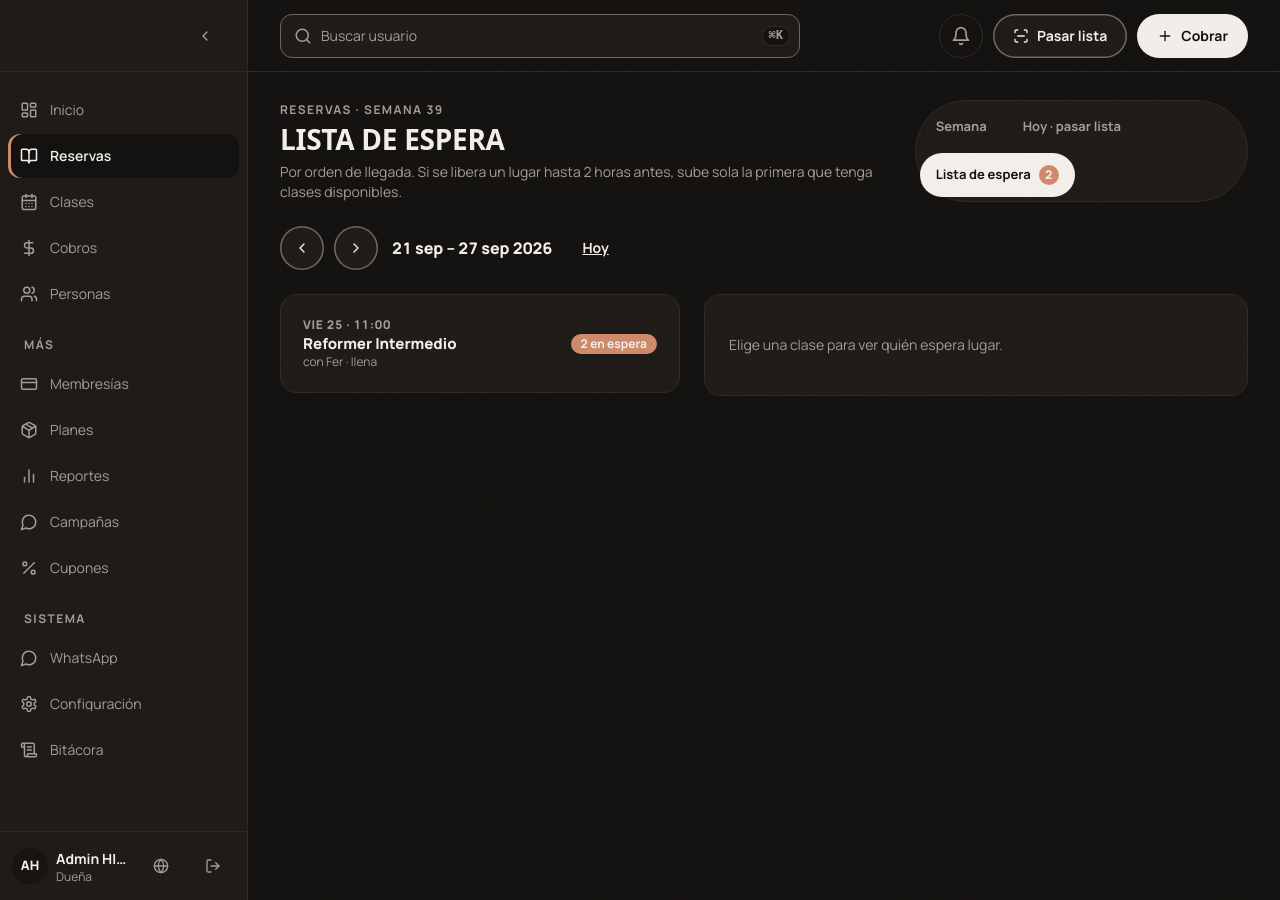
Test: Lista de espera › sólo lista las clases con gente esperando y muestra el orden
Click the button "Reformer Intermedio" at coordinates (323, 324), box [289,303,671,384]
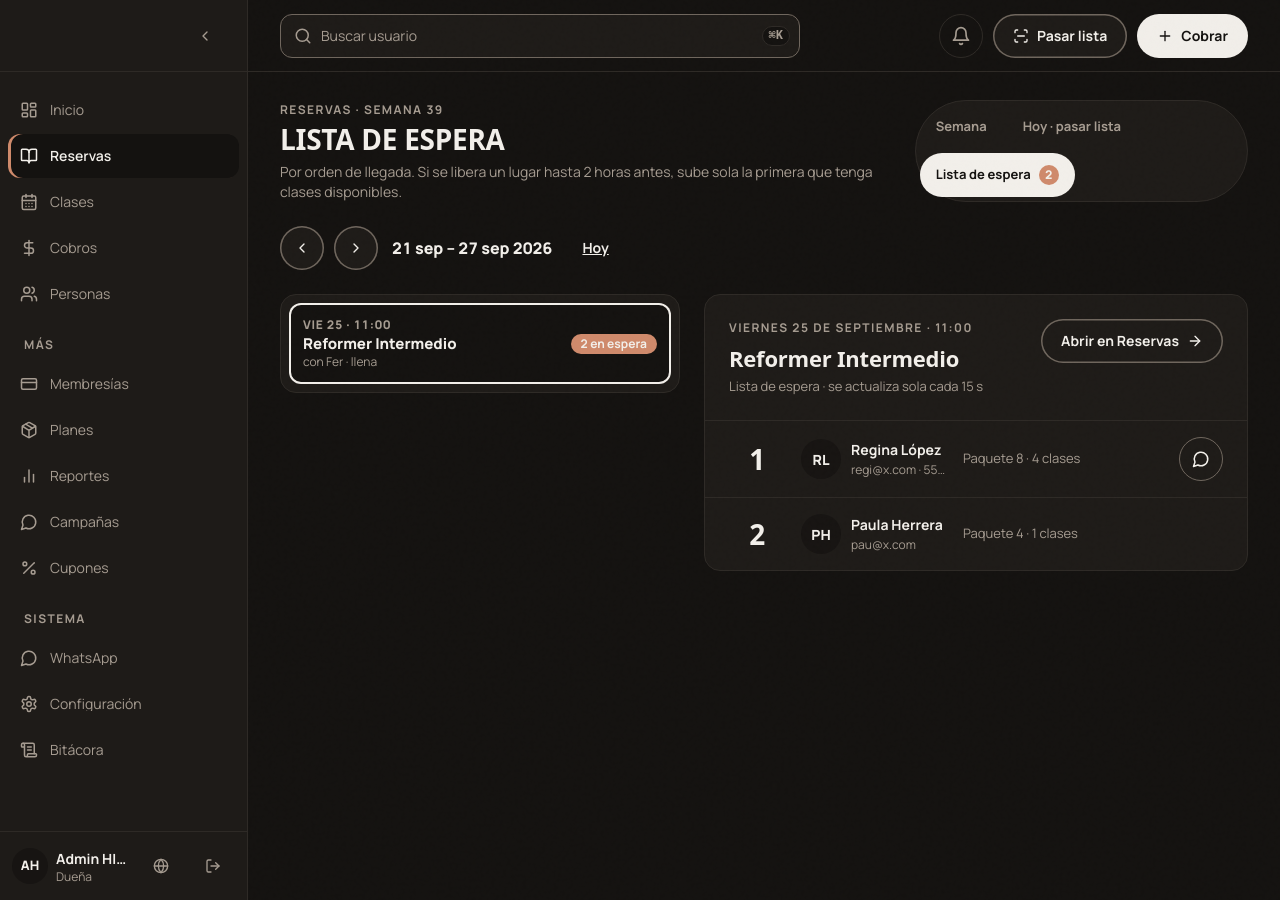
Expected: the text "Regina López" is shown, [851,440,947,460]
